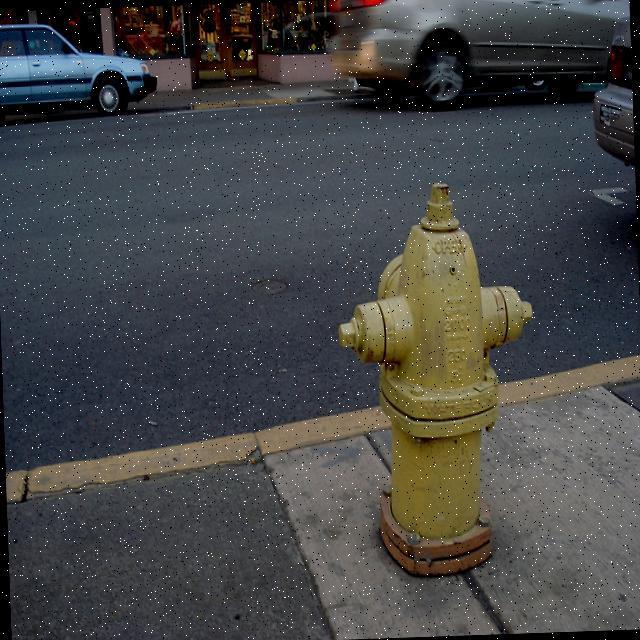fire_hydrant: (330, 178, 542, 577)
